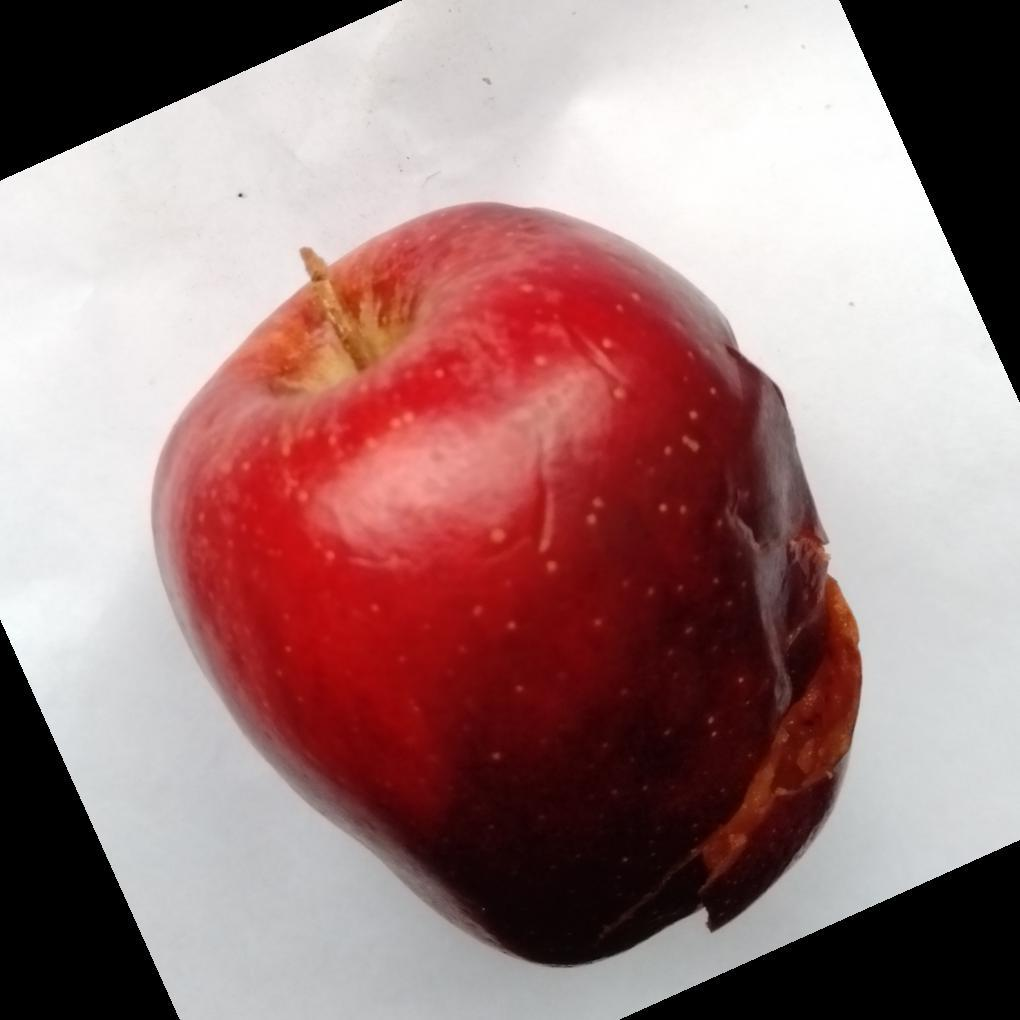FreshOrange: (148, 202, 863, 971)
